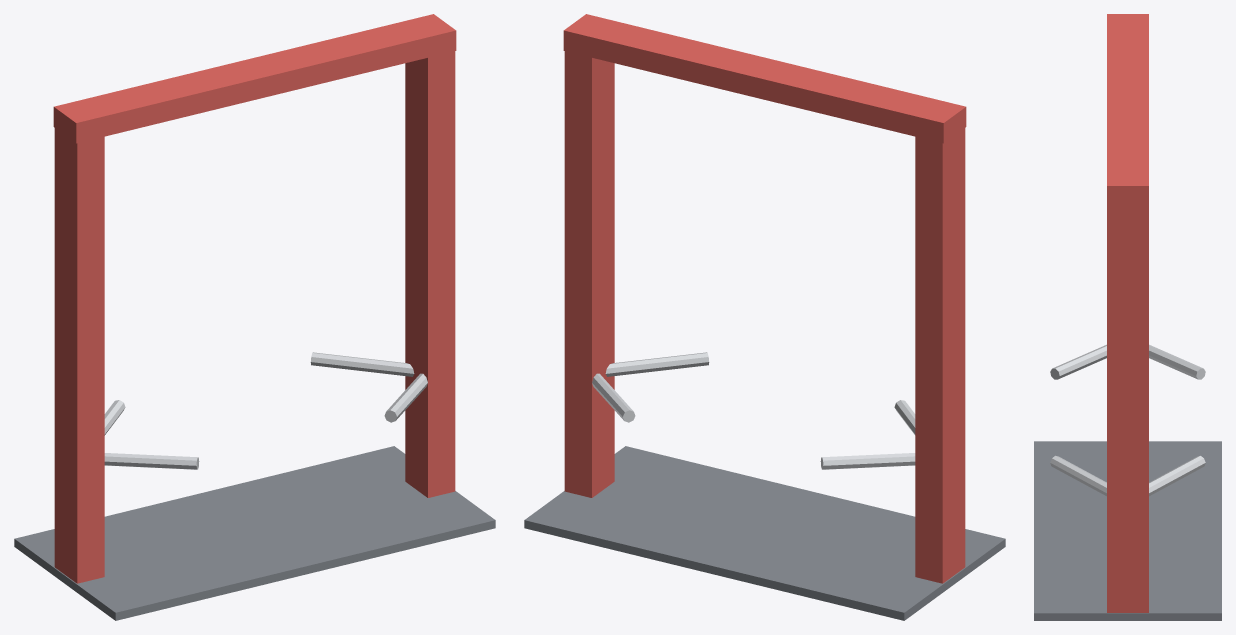
Rendered from vehicle_lift.glb.
The picture shows the model from 3 angles, left to right: view 1: azimuth 30°, elevation 25°; view 2: azimuth 150°, elevation 25°; view 3: azimuth 270°, elevation 25°; orthographic projection. The views are drawn at different scales.
Parts seen in each view (by area): view 1: vehicle_lift; view 2: vehicle_lift; view 3: vehicle_lift.
Boxes of the visible parts, left/top/right/bottom form: vehicle_lift: left=14, top=14, right=495, bottom=620; vehicle_lift: left=524, top=14, right=1005, bottom=620; vehicle_lift: left=1034, top=14, right=1221, bottom=620.
Size of the model in its own units: 1.95 by 2.3 by 0.9.
